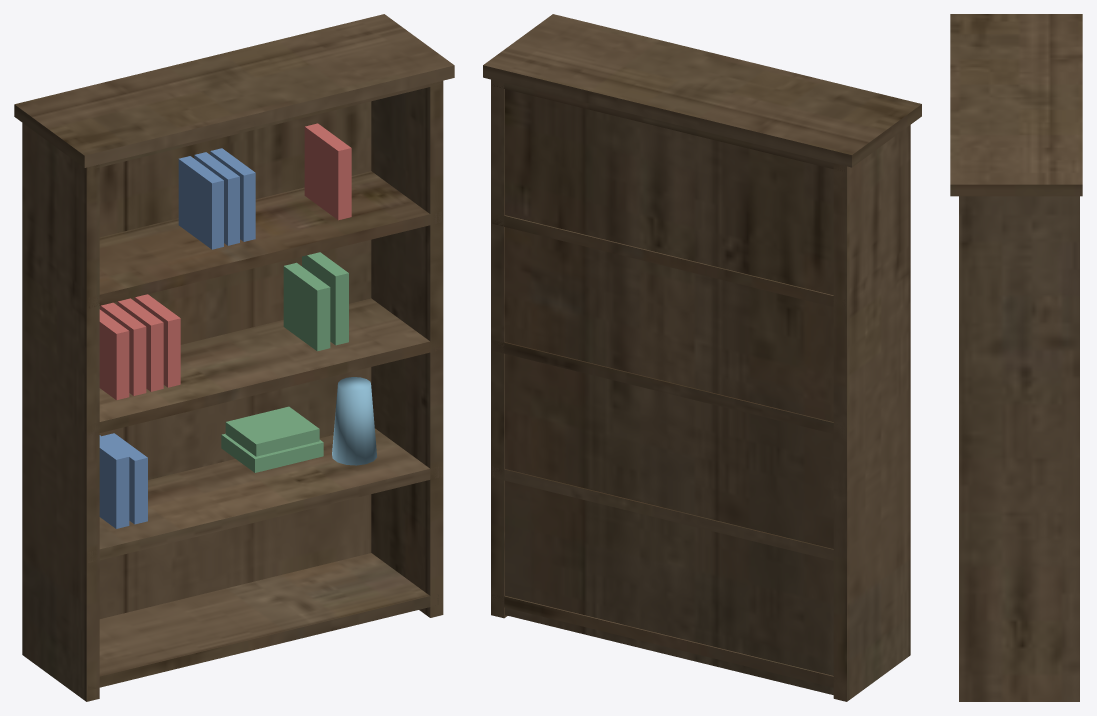
The model's file is estanteria_alta.glb.
3 renders of one model, left to right at view 1: azimuth 30°, elevation 25°; view 2: azimuth 150°, elevation 25°; view 3: azimuth 270°, elevation 25°, orthographic. The views are drawn at different scales.
Visible parts, largest first — view 1: estanteria_alta; view 2: estanteria_alta; view 3: estanteria_alta.
Part boxes in pixels (left/top/right/bottom): estanteria_alta: left=14, top=14, right=454, bottom=701; estanteria_alta: left=483, top=14, right=921, bottom=701; estanteria_alta: left=950, top=14, right=1082, bottom=701.
Size of the model in its own units: 1.4 by 1.99 by 0.46.
5 materials, 1 textured.
